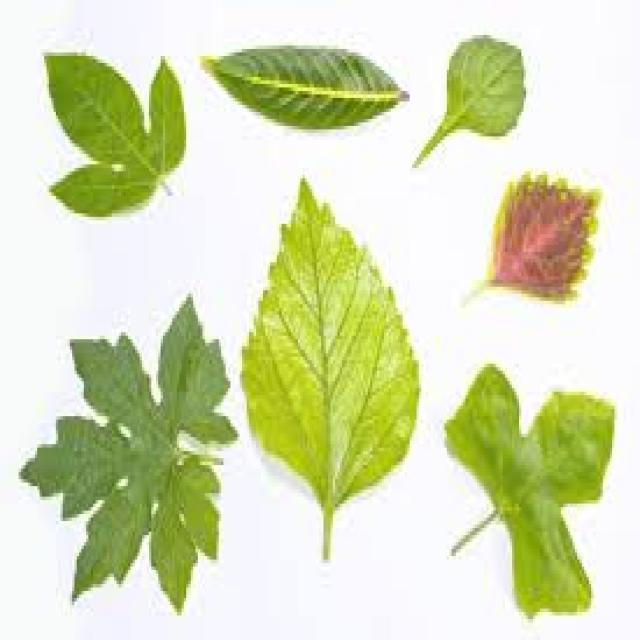leaves: (21, 297, 235, 610), (243, 180, 419, 557), (445, 364, 614, 613), (47, 56, 186, 215), (205, 49, 403, 127), (424, 43, 523, 155), (499, 178, 596, 292)
